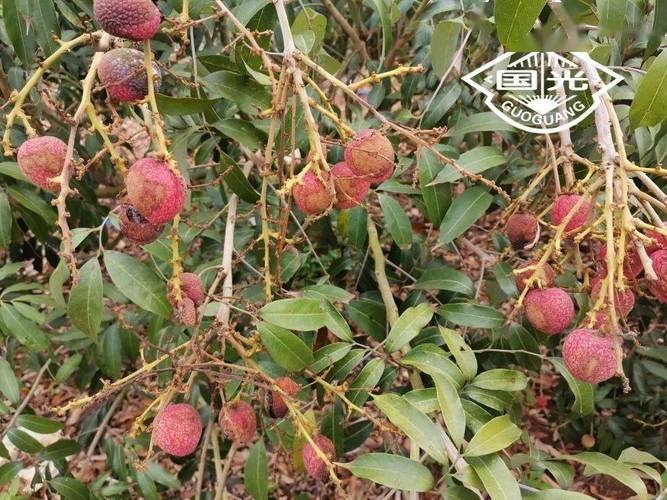Anthracnose: (108, 40, 168, 112), (593, 228, 658, 294), (235, 375, 302, 437), (556, 335, 628, 389), (502, 200, 562, 263), (305, 171, 375, 216), (351, 133, 411, 183), (118, 174, 162, 242), (165, 274, 205, 315), (523, 288, 554, 327)
